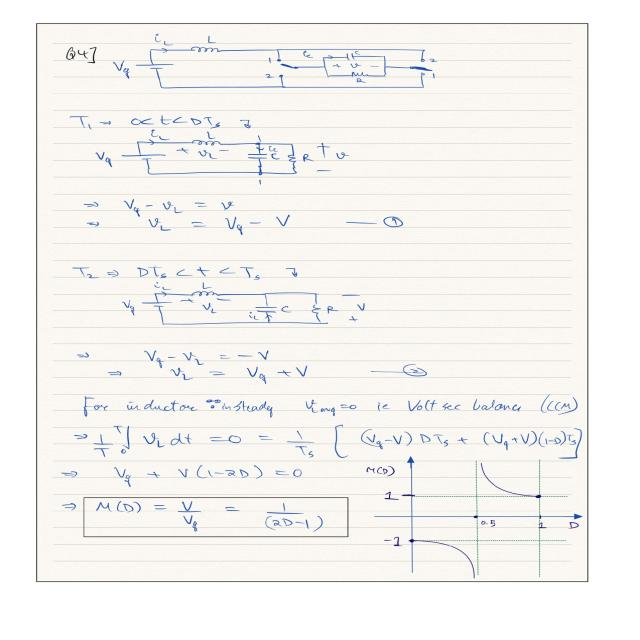capacitor: (243, 150, 274, 163), (252, 303, 278, 318), (337, 49, 362, 63)
inductor: (181, 43, 229, 60), (185, 135, 227, 151), (186, 287, 226, 300)
resistor: (346, 67, 375, 82), (308, 302, 328, 321), (284, 151, 302, 169)
source: (112, 146, 174, 168), (131, 54, 192, 75), (140, 297, 179, 313)
switch: (265, 54, 304, 86), (411, 57, 444, 81)
